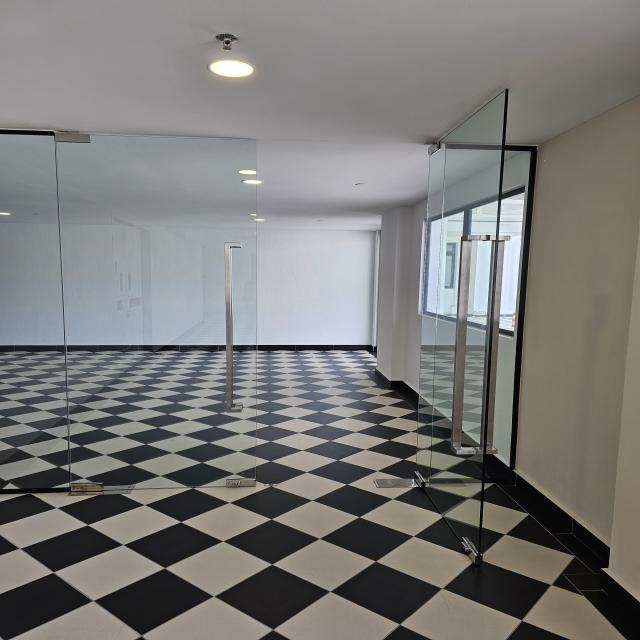footpath: (0, 495, 399, 638), (286, 384, 365, 485)
obstacle: (46, 127, 269, 490), (424, 87, 530, 570)
